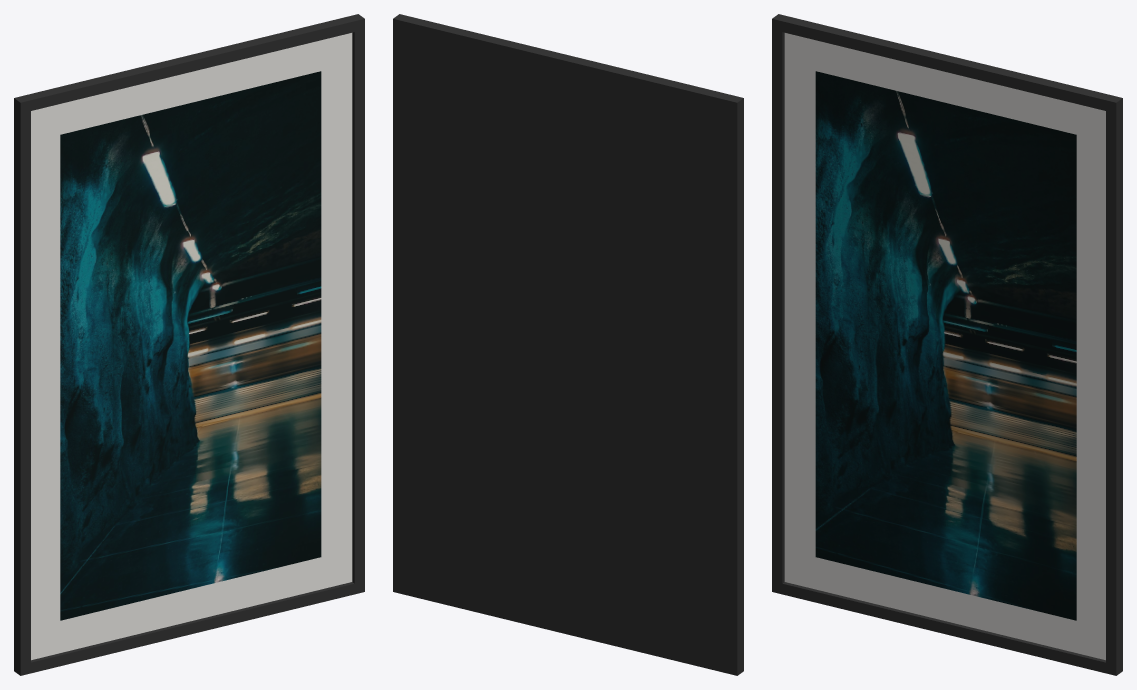
Rendered from grottan-90.gltf.
The picture shows the model from 3 angles, left to right: view 1: azimuth 30°, elevation 25°; view 2: azimuth 150°, elevation 25°; view 3: azimuth 330°, elevation 25°; orthographic projection.
Visible parts, largest first — view 1: tavla; view 2: tavla; view 3: tavla.
Part boxes in pixels (x1=…): tavla: x1=14, y1=14, x2=364, y2=675; tavla: x1=393, y1=14, x2=743, y2=675; tavla: x1=772, y1=14, x2=1122, y2=675.
Size of the model in its own units: 0.6674 by 1.06 by 0.022.
3 materials, 1 textured.
